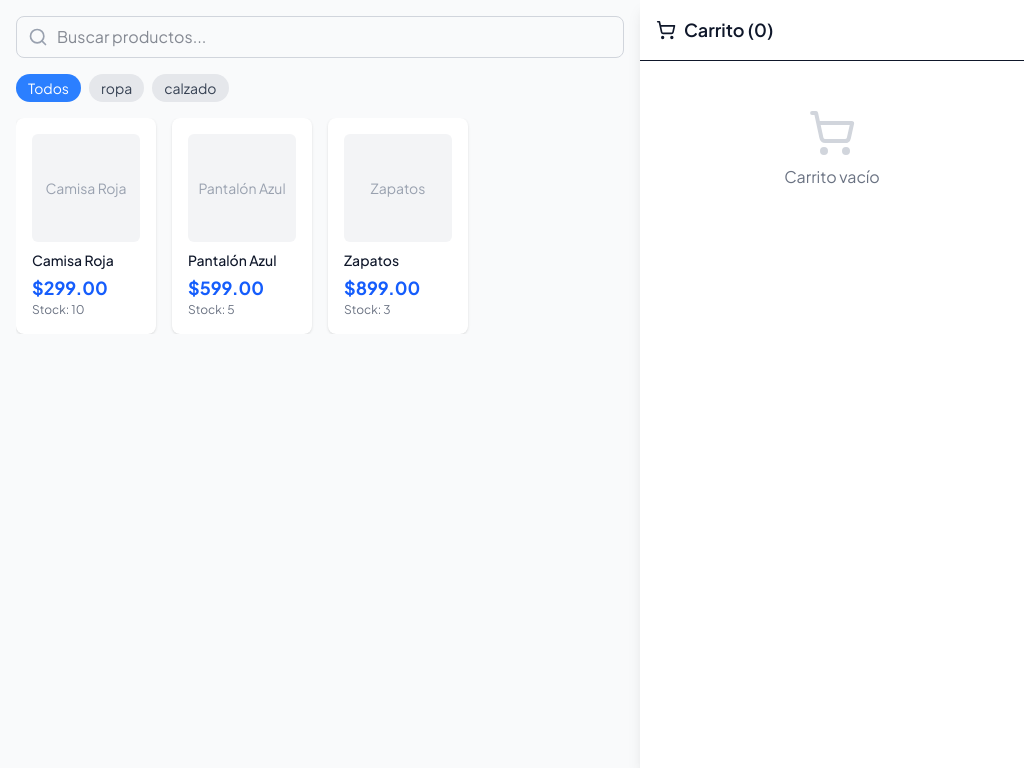
it: SellerTerminal - Componente Principal › Cálculos y validaciones › debe calcular subtotal correctamente
The image size is (1024, 768).
Click the text "Camisa Roja Camisa Roja $299.00 Stock: 10" at (86, 226), box [16, 118, 156, 334]
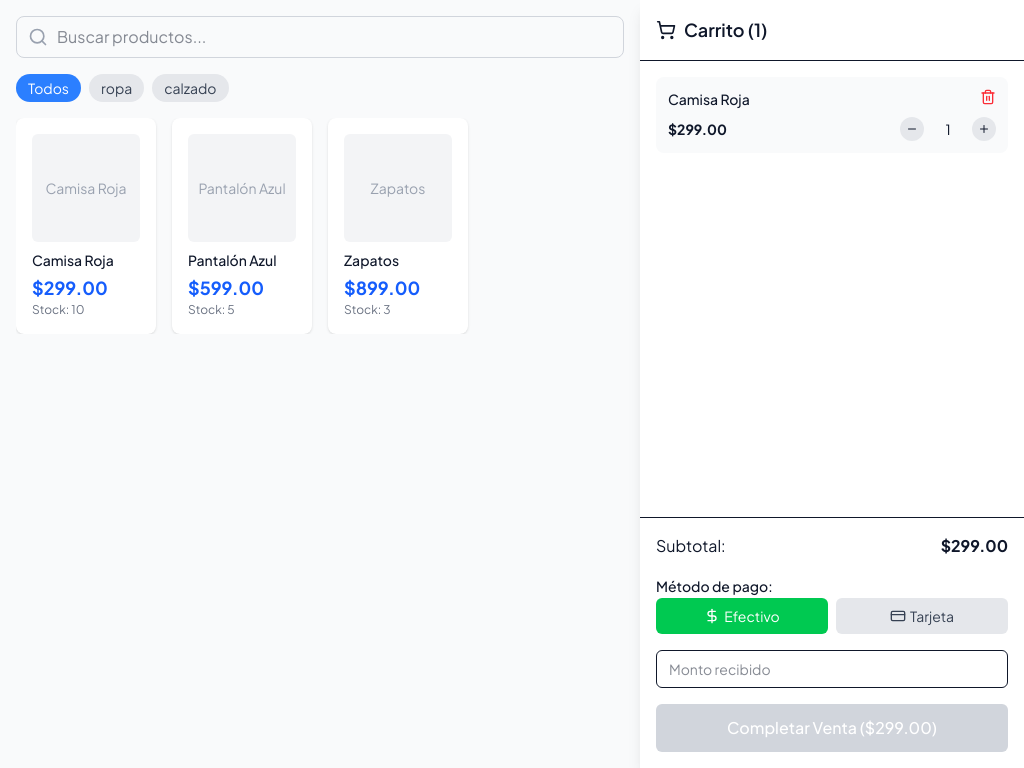
Click the text "Pantalón Azul Pantalón Azul $599.00 Stock: 5" at (242, 226), box [172, 118, 312, 334]
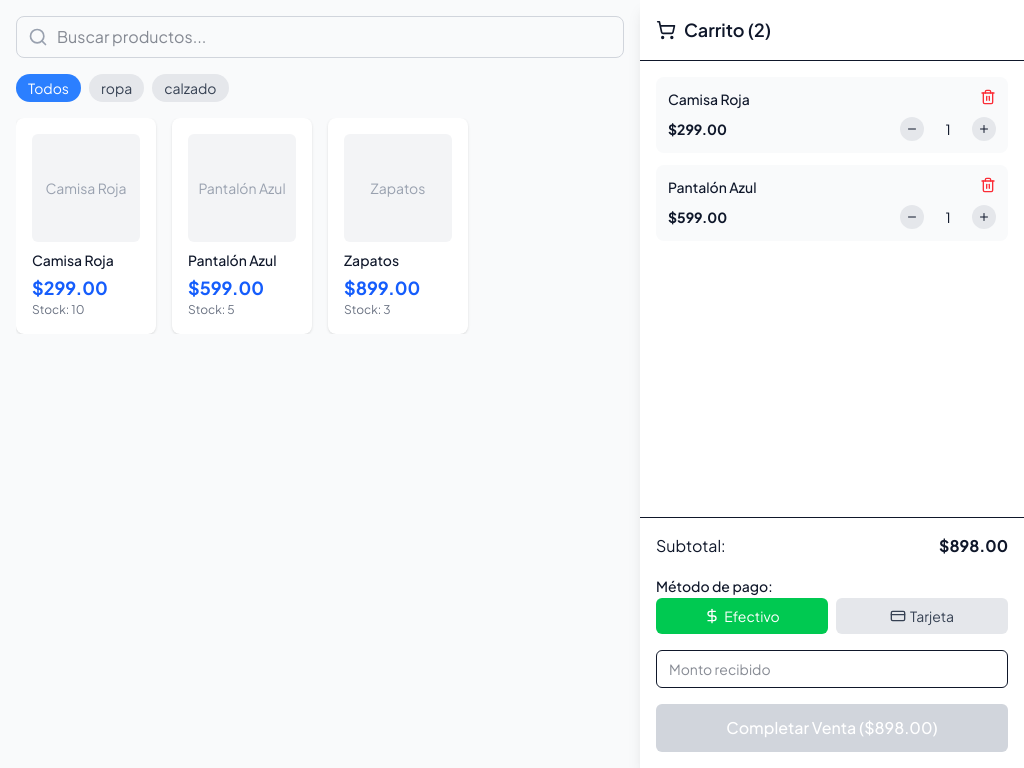
expect the text "$898.00" is shown: met, box [939, 534, 1008, 558]
